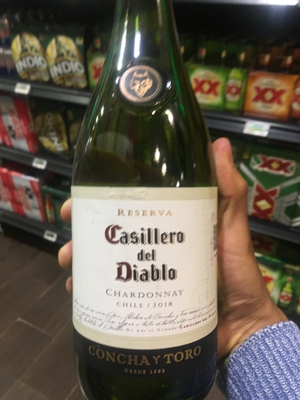casillero del diablo chardonnay: (63, 18, 238, 400)
